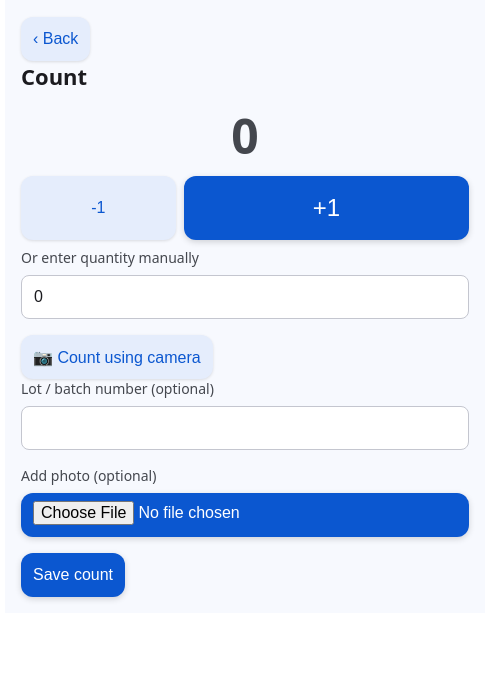
Test case: CountingScreen › shows an error banner if saving fails
The width and height of the screenshot is (491, 683).
Step 1. Click the button "Save count" → (73, 575), box [21,553,125,597]
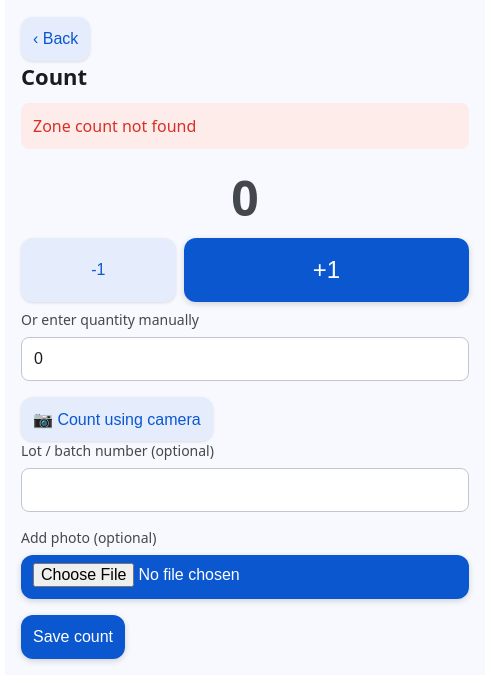
expect the message reads "Zone count not found": met, box [33,115,196,137]
